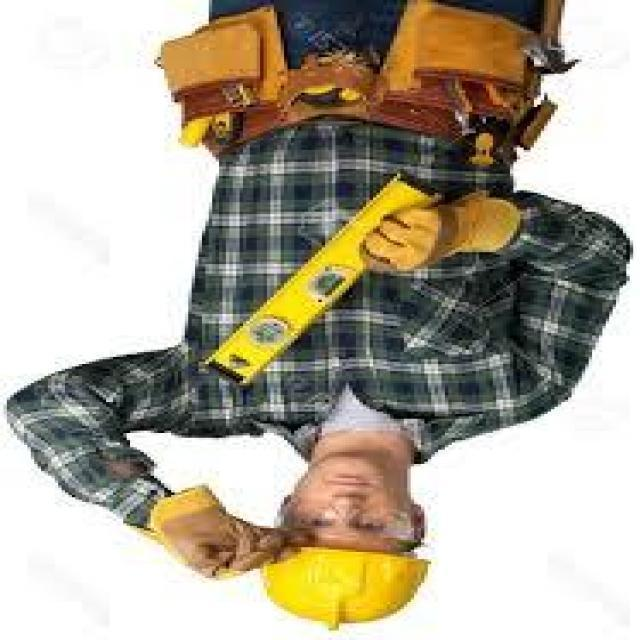gloves: (363, 182, 524, 280), (135, 490, 288, 586)
goggles: (277, 504, 425, 546)
